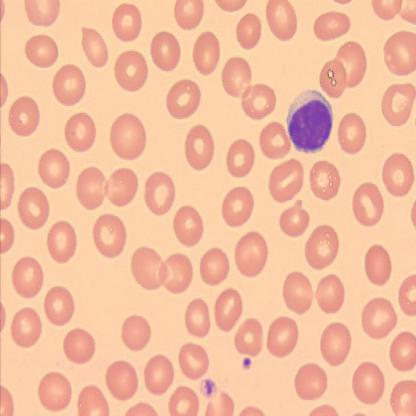Lymphocyte: (286, 90, 334, 154)
